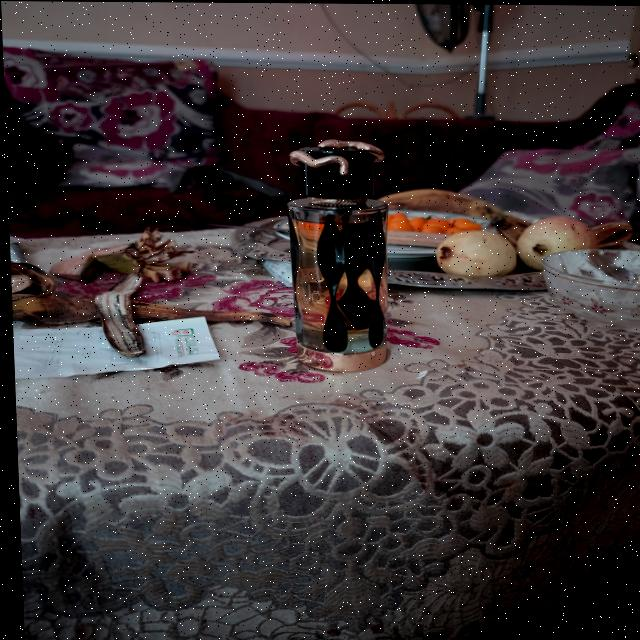Teriaq-Intense: (278, 137, 395, 373)
